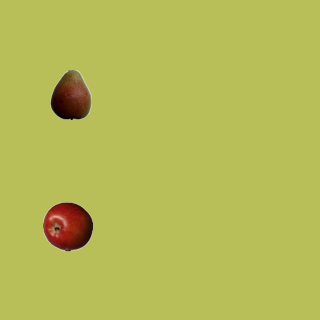Apple Braeburn: (42, 201, 92, 251)
Pear Forelle: (45, 69, 95, 119)
